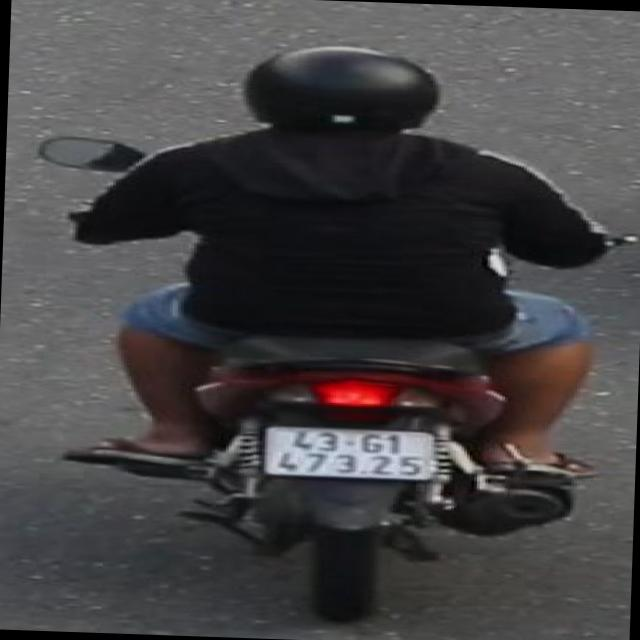LP: (259, 418, 441, 483)
helmet: (225, 38, 461, 156)
